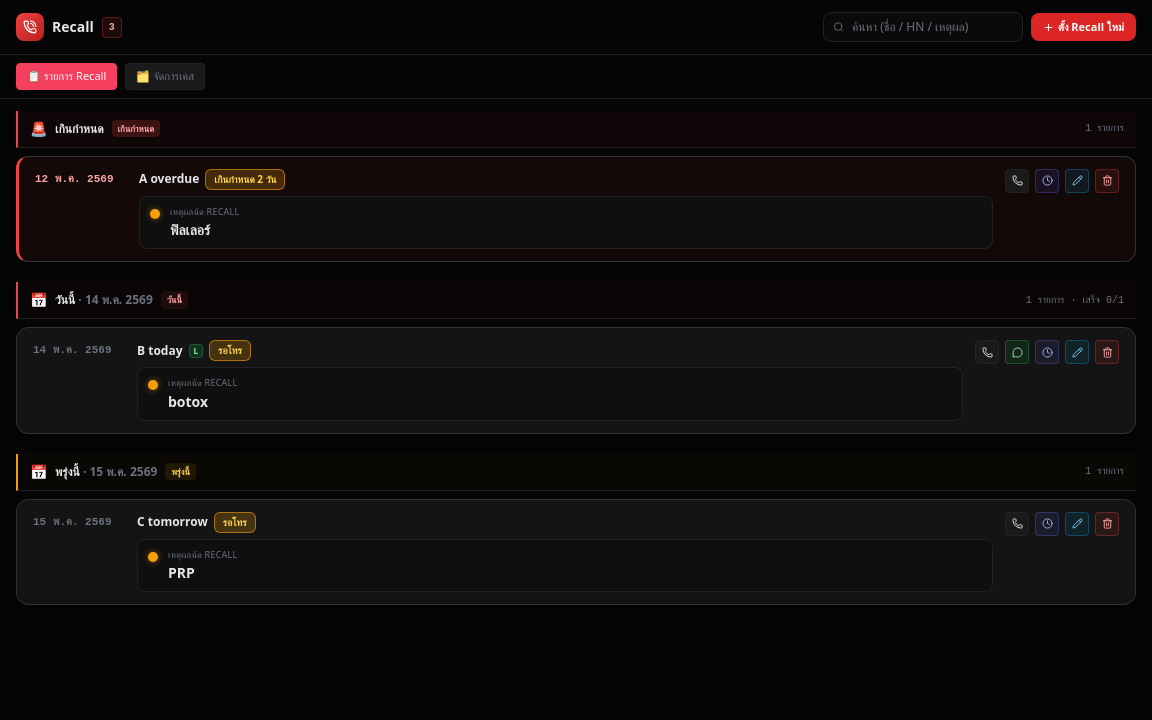
Scenario: Phase 29 · T4 row interactions › T4.1 click record button opens outcome modal
Click the button with test id "recall-record-R1": (1017,180) [1005, 168, 1029, 192]
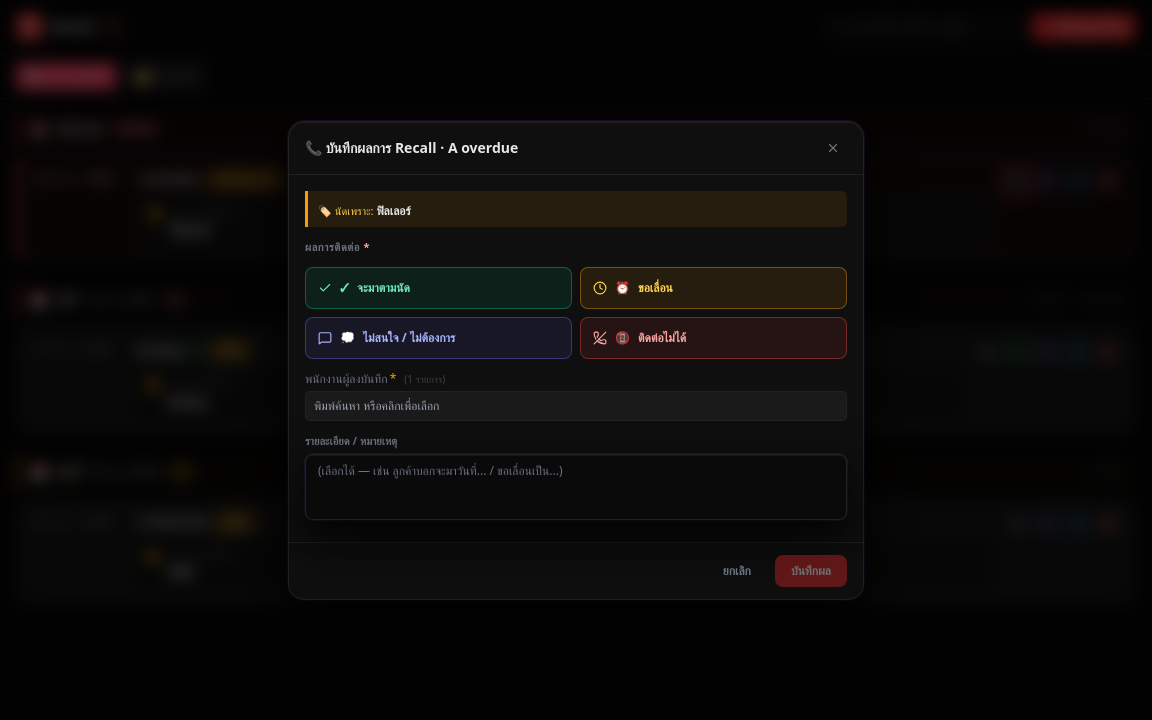
Check: the element with test id "recall-outcome-modal" is shown
Check: the element with test id "recall-outcome-modal" shows "A overdue", box [448, 138, 518, 156]
